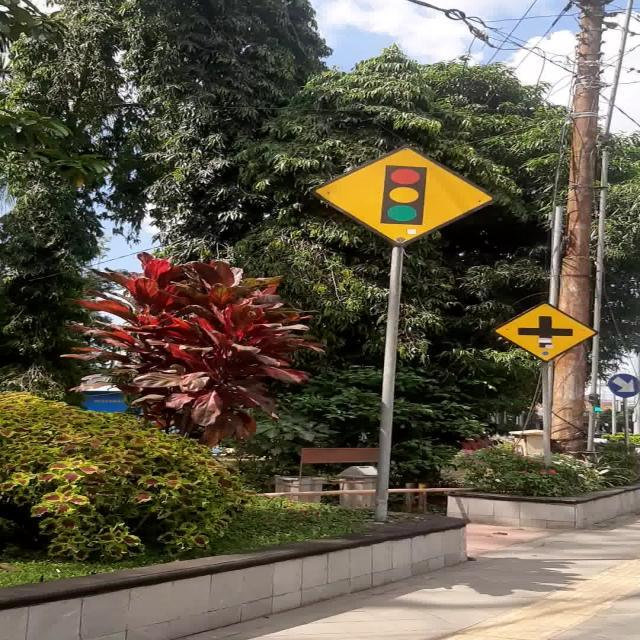Lampu Lalu Lintas: (310, 143, 497, 247)
